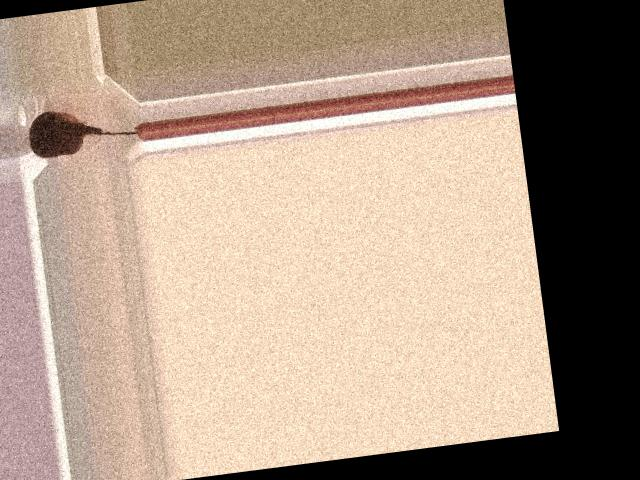beet: (26, 99, 140, 159)
